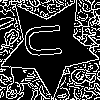U: (24, 20, 71, 60)
